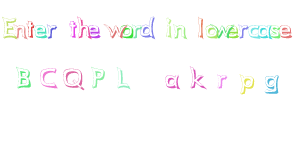B: (15, 66, 31, 88)
C: (39, 67, 57, 89)
E: (1, 15, 18, 39)
L: (116, 67, 131, 88)
P: (91, 66, 105, 88)
Q: (62, 68, 84, 90)
a: (164, 73, 180, 89), (258, 24, 271, 39)
c: (248, 24, 259, 39)
d: (139, 17, 156, 38)
e: (279, 24, 293, 40), (34, 24, 47, 40), (226, 24, 239, 38), (89, 24, 101, 39)
g: (264, 74, 279, 95)
h: (77, 15, 90, 39)
i: (164, 17, 173, 39)
k: (189, 65, 206, 89)
l: (196, 15, 205, 38)
n: (13, 24, 27, 40), (173, 23, 187, 39)
o: (119, 23, 133, 39), (205, 24, 219, 39)
p: (239, 73, 254, 95)
r: (130, 23, 142, 39), (46, 23, 57, 39), (216, 73, 227, 89), (238, 24, 248, 39)
s: (270, 24, 280, 39)
t: (26, 18, 36, 38), (68, 20, 77, 38)
w: (104, 22, 125, 39), (214, 24, 231, 39)
